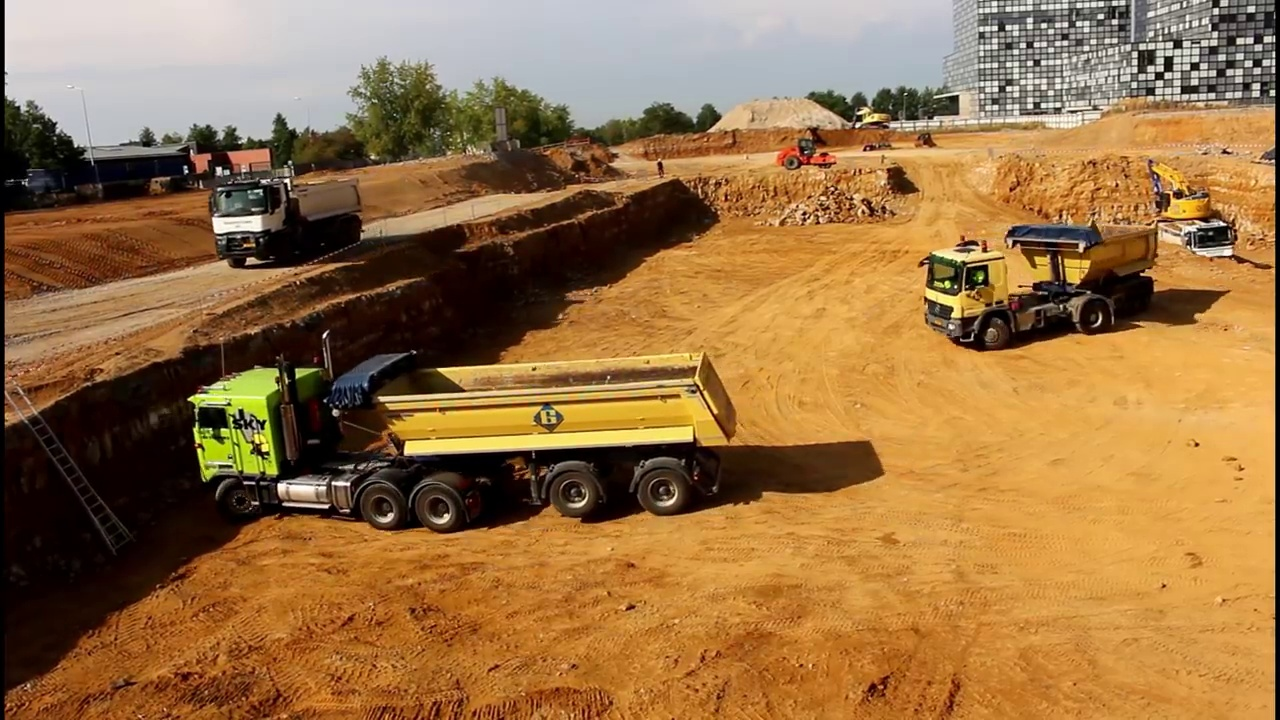compactor: (774, 137, 837, 172)
excavator: (1143, 154, 1226, 244), (846, 105, 892, 130)
truck: (186, 328, 743, 534), (916, 220, 1162, 352), (207, 164, 367, 271), (1141, 214, 1237, 272)
worker: (653, 152, 671, 181)
